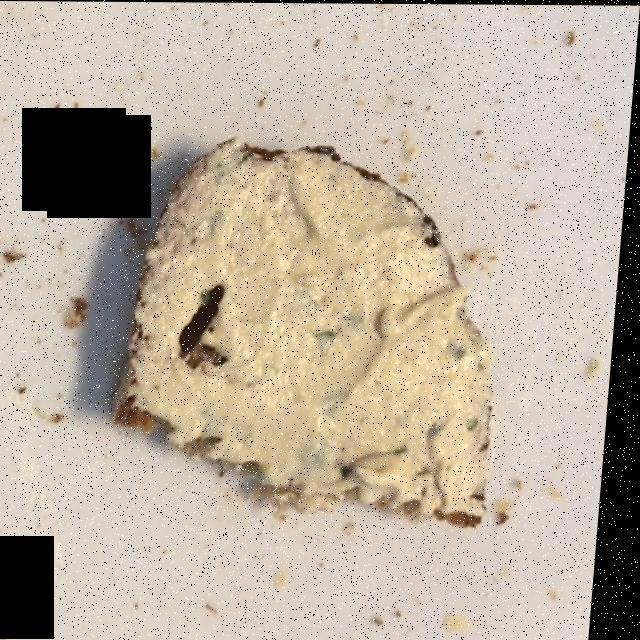bread: (135, 148, 498, 517)
hummus: (140, 166, 490, 499)
